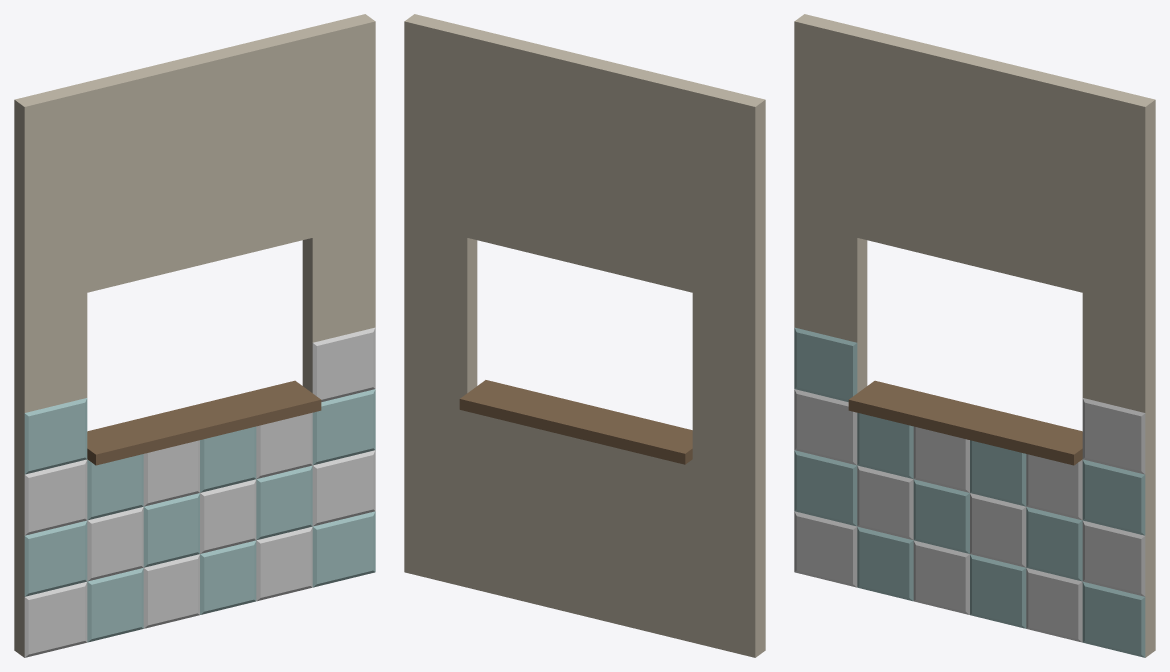
File: Mesh_WallHalfCeramic_H3.fbx
3 views of the same model, side by side, from view 1: azimuth 30°, elevation 25°; view 2: azimuth 150°, elevation 25°; view 3: azimuth 330°, elevation 25° (orthographic).
Parts seen in each view (by area): view 1: Mesh_WallHalfCeramic_H3; view 2: Mesh_WallHalfCeramic_H3; view 3: Mesh_WallHalfCeramic_H3.
Part boxes in pixels (bbox=[...]): Mesh_WallHalfCeramic_H3: bbox=[14, 14, 375, 657]; Mesh_WallHalfCeramic_H3: bbox=[404, 14, 765, 657]; Mesh_WallHalfCeramic_H3: bbox=[794, 14, 1155, 657].
Size of the model in its own units: 2 by 3 by 0.2574.
